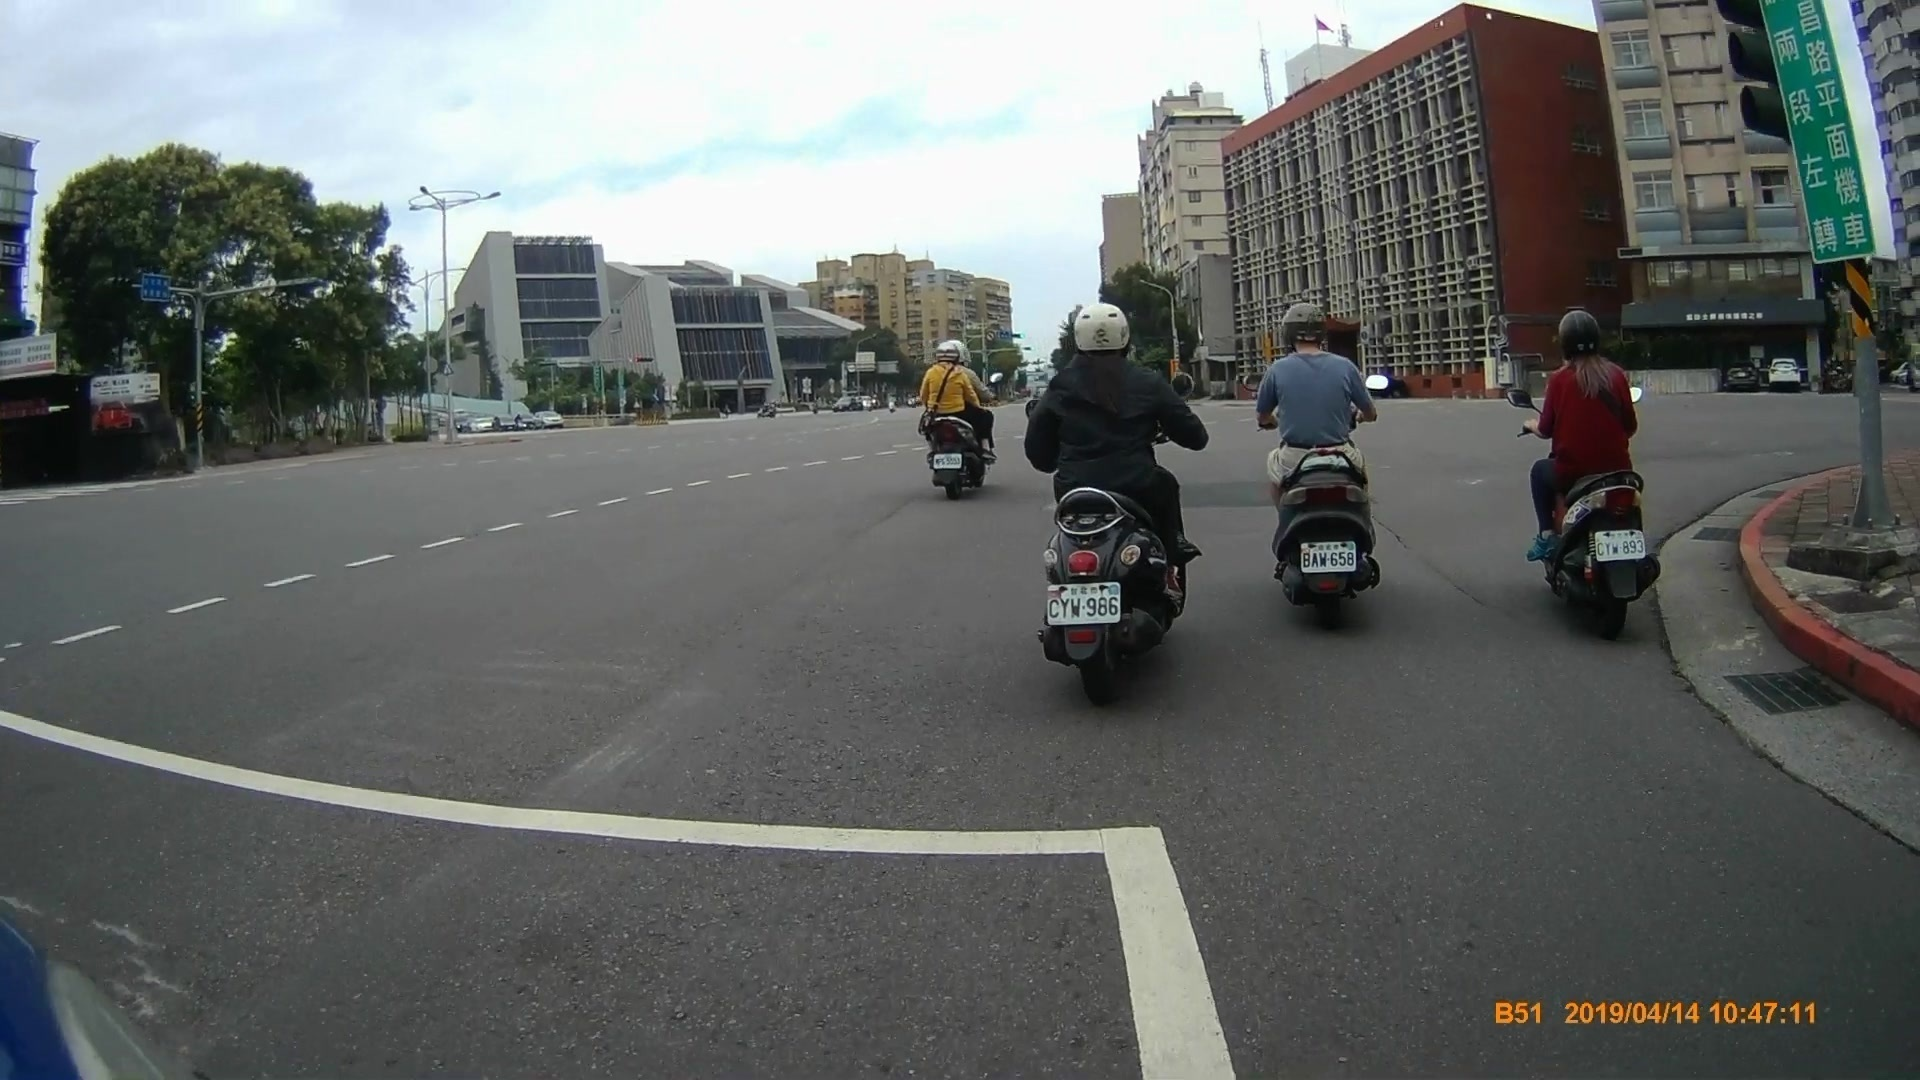License_plate: (1042, 582, 1126, 624), (1296, 540, 1362, 575), (1594, 530, 1642, 562), (932, 453, 967, 469)
